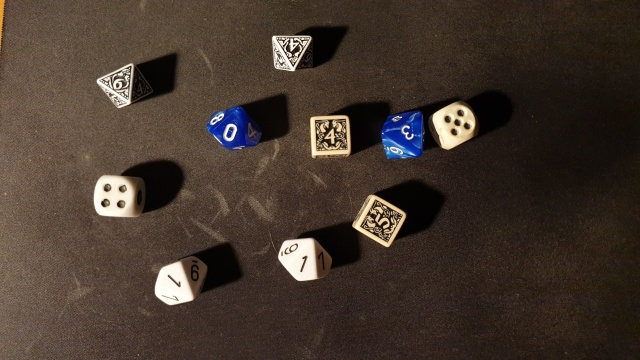d10-1: (271, 230, 335, 290), (149, 253, 215, 309)
d10-10: (202, 102, 271, 159)
d10-3: (376, 103, 426, 166)
d6-4: (87, 170, 158, 223)
d6-5: (427, 97, 481, 153)
d6p-4: (307, 111, 355, 158)
d6p-5: (346, 190, 411, 252)
d8p-4: (264, 26, 324, 76)
d8p-6: (86, 55, 162, 113)
